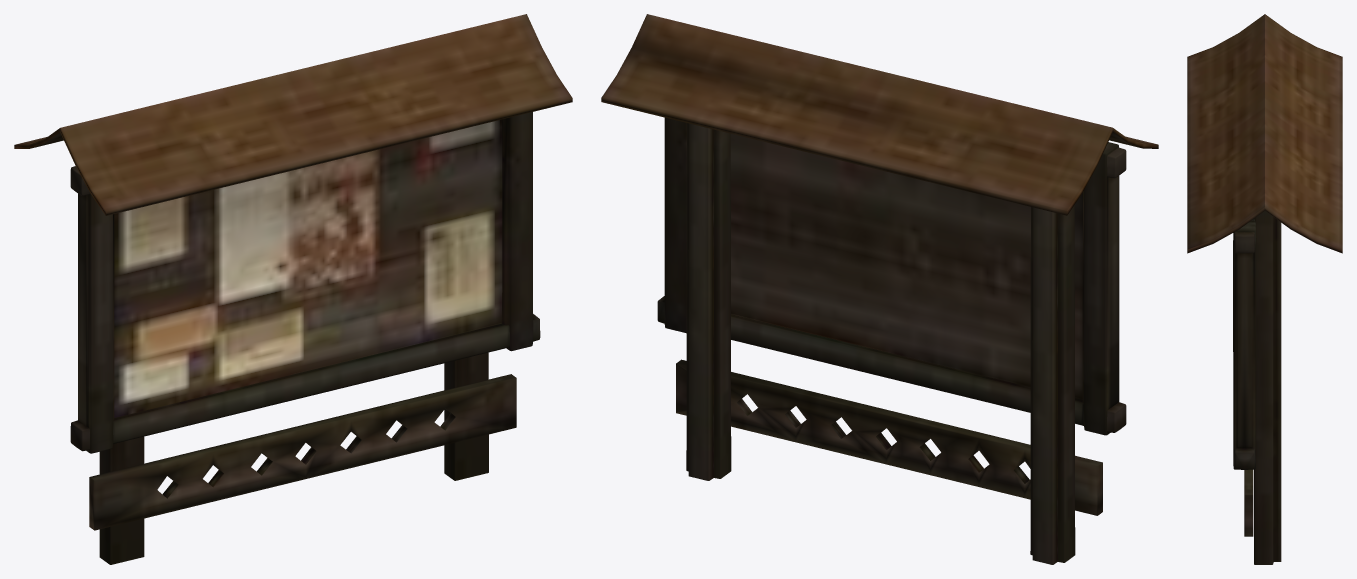
The model's file is bounty_board.glb.
3 renders of one model, left to right at view 1: azimuth 30°, elevation 25°; view 2: azimuth 150°, elevation 25°; view 3: azimuth 270°, elevation 25°, orthographic. The views are drawn at different scales.
Parts seen in each view (by area): view 1: Object_4; view 2: Object_4; view 3: Object_4.
Boxes of the visible parts, x1,y1,x2,y2 form: Object_4: [14, 14, 572, 564]; Object_4: [601, 14, 1158, 564]; Object_4: [1187, 14, 1342, 564].
Bounding box in the file's own units: 3.84 × 3.49 × 1.3.
Materials: 1 (1 with a texture image).
